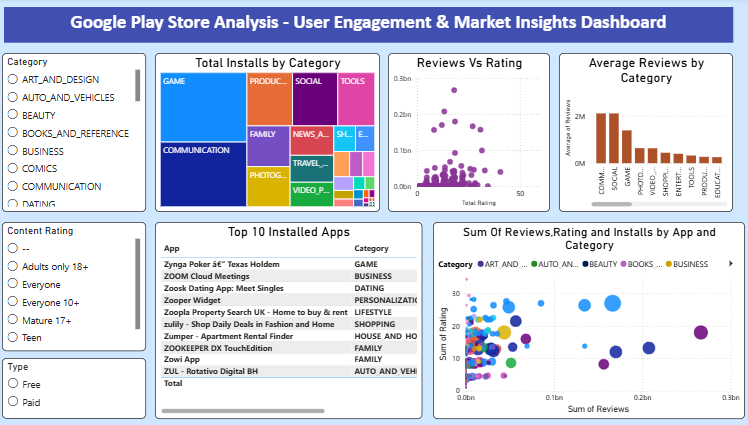

The page's visual inventory and layout, read from the dashboard file:
{"tool":"powerbi","page":{"name":"User Engagement & Market Insights","canvas":[1280,720],"ordinal":1},"visuals":[{"type":"treemap","fields":{"Group":["Google Play Store Analysis.Category"],"Values":["Sum(Google Play Store Analysis.Installs)"]},"box":[277.2,92.4,378,267.1],"z":0},{"type":"scatterChart","title":"Sum Of Reviews,Rating and Installs by App and Category","fields":{"X":["Sum(Google Play Store Analysis.Reviews)"],"Y":["Sum(Google Play Store Analysis.Rating)"],"Series":["Google Play Store Analysis.Category"],"Category":["Google Play Store Analysis.App"],"Size":["Sum(Google Play Store Analysis.Installs)"]},"box":[744.1,376.3,524.1,330.9],"z":1000},{"type":"scatterChart","title":"Reviews Vs Rating","fields":{"Y":["Sum(Google Play Store Analysis.Reviews)"],"X":["Sum(Google Play Store Analysis.Rating)"],"Category":["Google Play Store Analysis.App"]},"box":[668.6,92.4,272.1,267.1],"z":2000},{"type":"tableEx","title":"Top 10 Installed Apps","fields":{"Values":["Google Play Store Analysis.App","Google Play Store Analysis.Category","Sum(Google Play Store Analysis.Installs)","Sum(Google Play Store Analysis.Rating)"]},"box":[277.2,376.3,448.5,330.9],"z":3000},{"type":"columnChart","title":"Average Reviews by Category","fields":{"Category":["Google Play Store Analysis.Category"],"Y":["Avg(Google Play Store Analysis.Reviews)"]},"box":[955.8,92.4,292.3,267.1],"z":4000},{"type":"textbox","box":[23.5,15.1,1224.6,60.5],"z":4001},{"type":"listSlicer","fields":{"Values":["Google Play Store Analysis.Category"]},"box":[20.2,92.4,241.9,267.1],"z":4002},{"type":"listSlicer","fields":{"Values":["Google Play Store Analysis.Content Rating"]},"box":[20.2,376.3,241.9,216.7],"z":4003},{"type":"listSlicer","fields":{"Values":["Google Play Store Analysis.Type"]},"box":[20.2,604.7,241.9,102.5],"z":4004}]}

Visuals, with their boxes in screenshot pixels (x1, y1, x2, y2), scaled from the page's 1280x720 canvas onto the 748x425 screenshot:
treemap - Google Play Store Analysis.Category x Sum(Google Play Store Analysis.Installs): 162,55,383,212
"Sum Of Reviews,Rating and Installs by App and Category" scatterChart: 435,222,741,417
"Reviews Vs Rating" scatterChart: 391,55,550,212
"Top 10 Installed Apps" tableEx: 162,222,424,417
"Average Reviews by Category" columnChart: 559,55,729,212
textbox: 14,9,729,45
listSlicer - Google Play Store Analysis.Category: 12,55,153,212
listSlicer - Google Play Store Analysis.Content Rating: 12,222,153,350
listSlicer - Google Play Store Analysis.Type: 12,357,153,417
